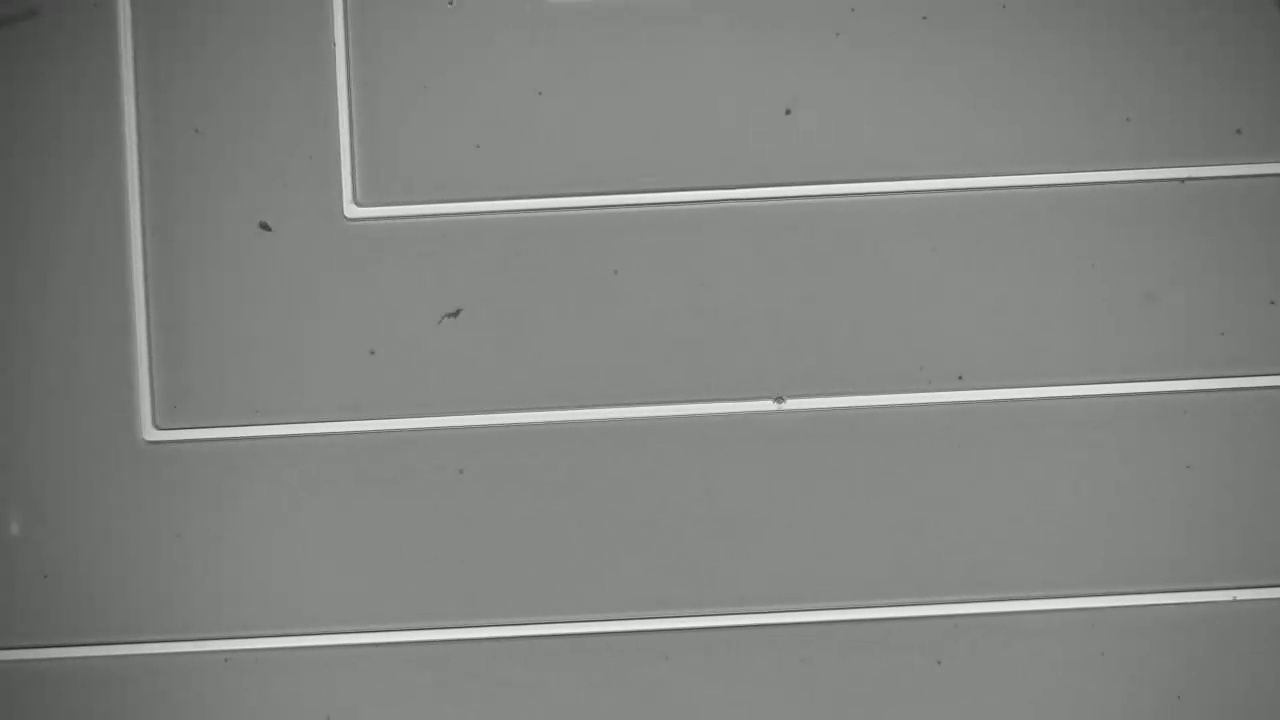stains_enbedded: (766, 390, 796, 420)
